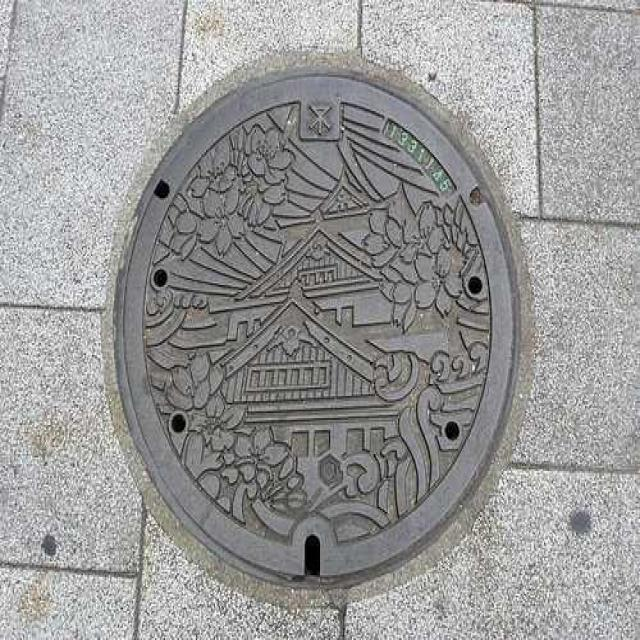manhole: (108, 63, 534, 599)
